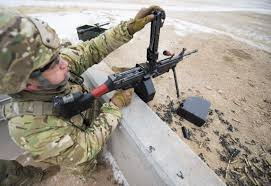gun: (52, 46, 198, 119)
